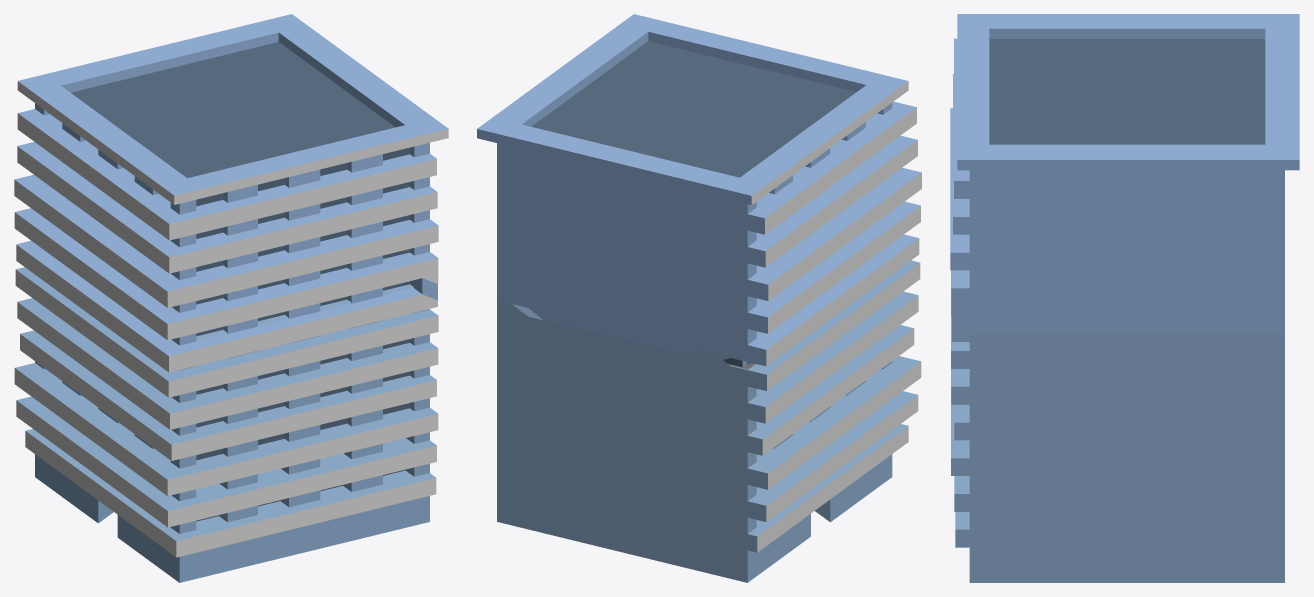
File: build.fbx
The picture shows the model from 3 angles, left to right: view 1: azimuth 30°, elevation 25°; view 2: azimuth 150°, elevation 25°; view 3: azimuth 270°, elevation 25°; orthographic projection. The views are drawn at different scales.
Parts seen in each view (by area): view 1: Cube.001, Cube; view 2: Cube.001, Cube; view 3: Cube.001, Cube.
Boxes of the visible parts, x1,y1,x2,y2 form: Cube.001: (14, 14, 448, 372); Cube: (14, 267, 438, 582); Cube.001: (477, 14, 921, 366); Cube: (497, 260, 921, 582); Cube.001: (950, 14, 1299, 343); Cube: (951, 270, 1284, 582).
Bounding box in the file's own units: 1872 × 1824 × 2483.
